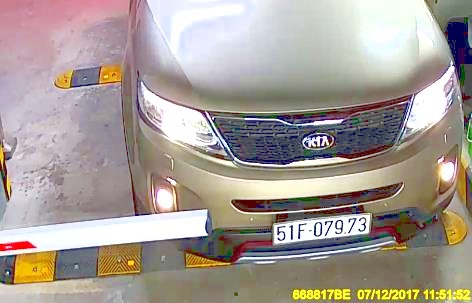plate: (272, 211, 376, 243)
